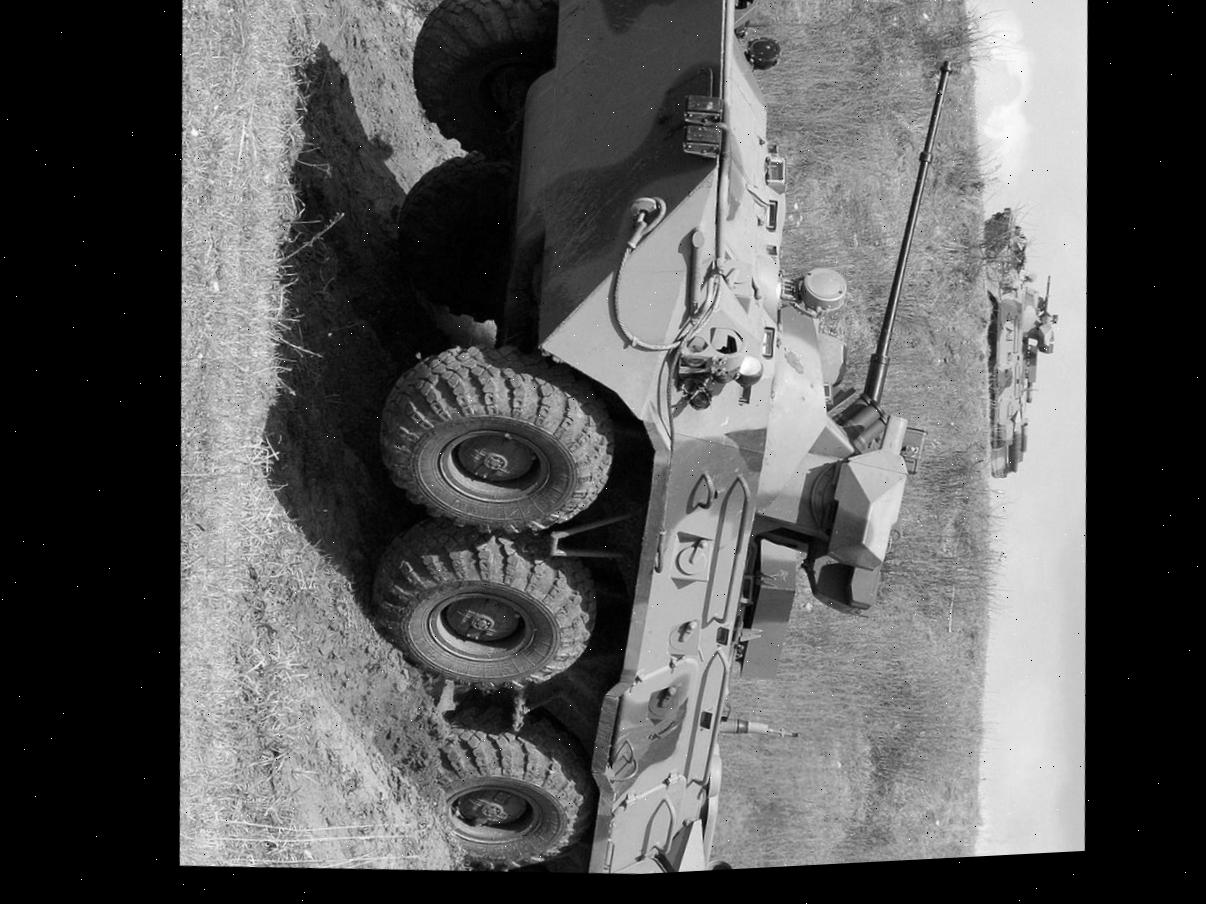tank: (305, 0, 1015, 888), (963, 203, 1080, 485)
